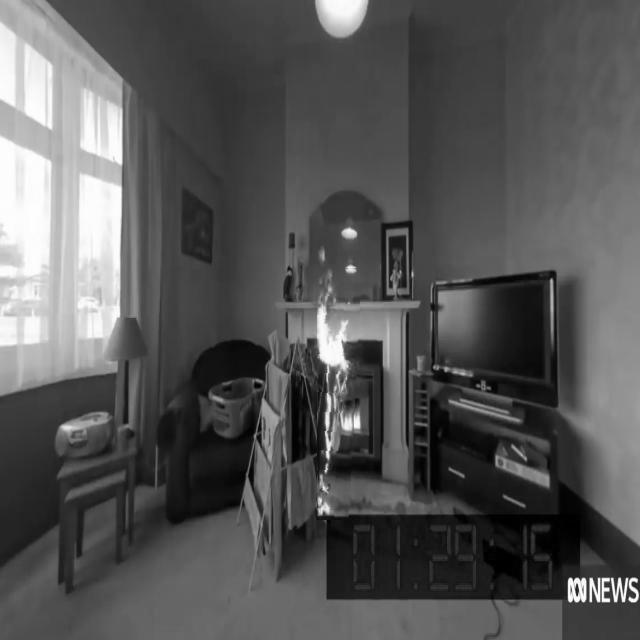smoke: (316, 266, 362, 520)
